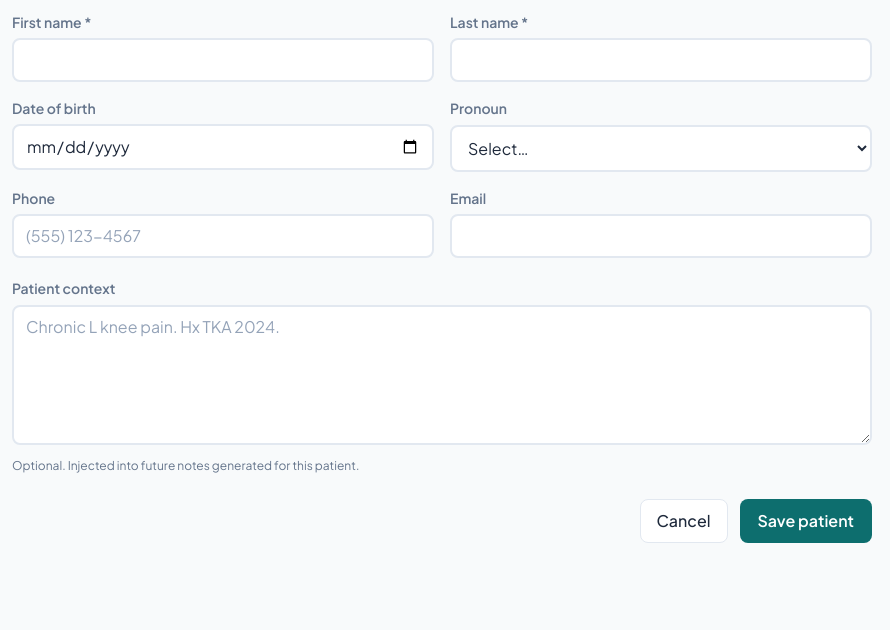
Test: PatientCreateForm › NEVER displays raw err.message (Rule 2): unknown code falls back to generic copy
This screenshot has width=890, height=630.
In the field labelled "First name *": (223, 60) [12, 38, 434, 82], type "Jane"
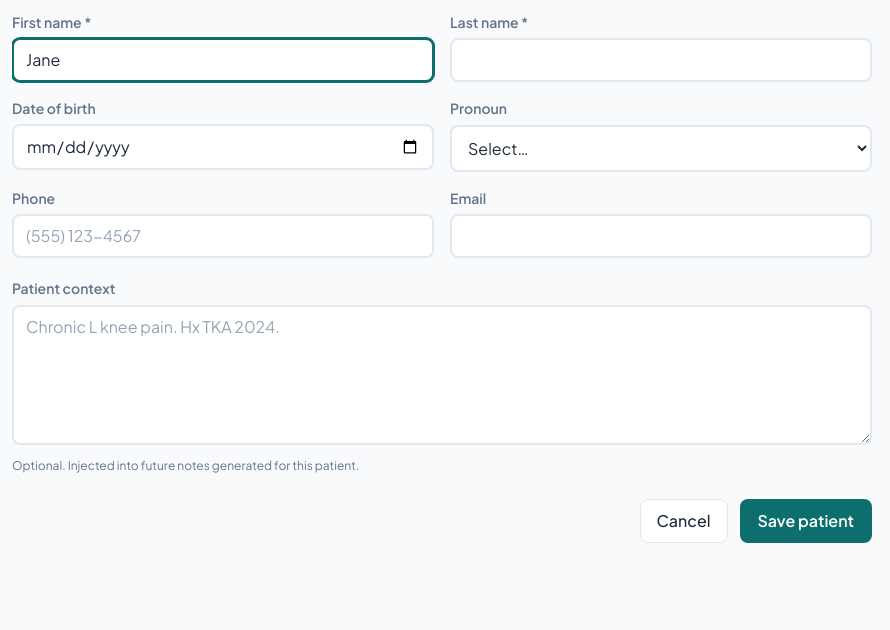
In the field labelled "Last name *": (661, 60) [450, 38, 872, 82], type "Doe"
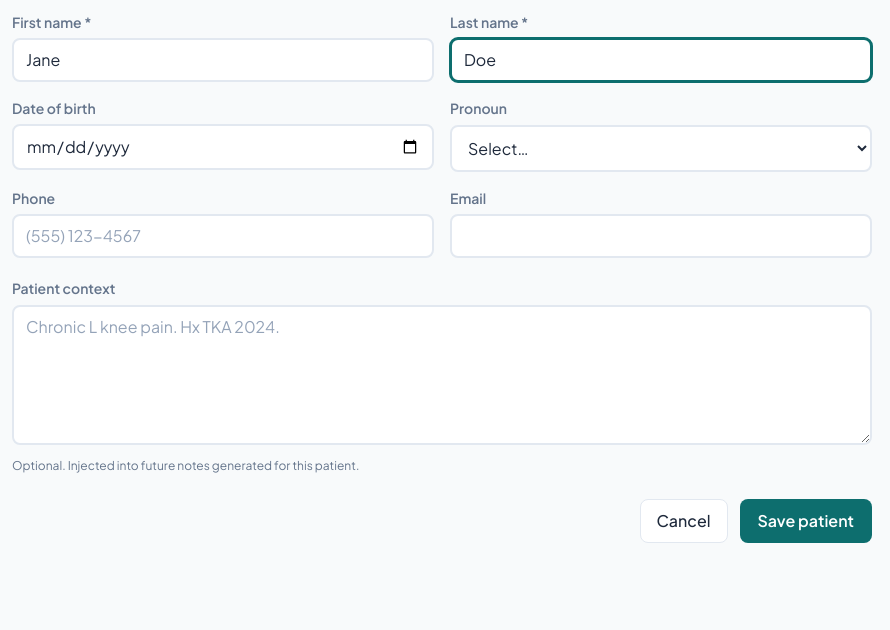
Click the button "Save patient": (806, 521) [740, 499, 872, 543]
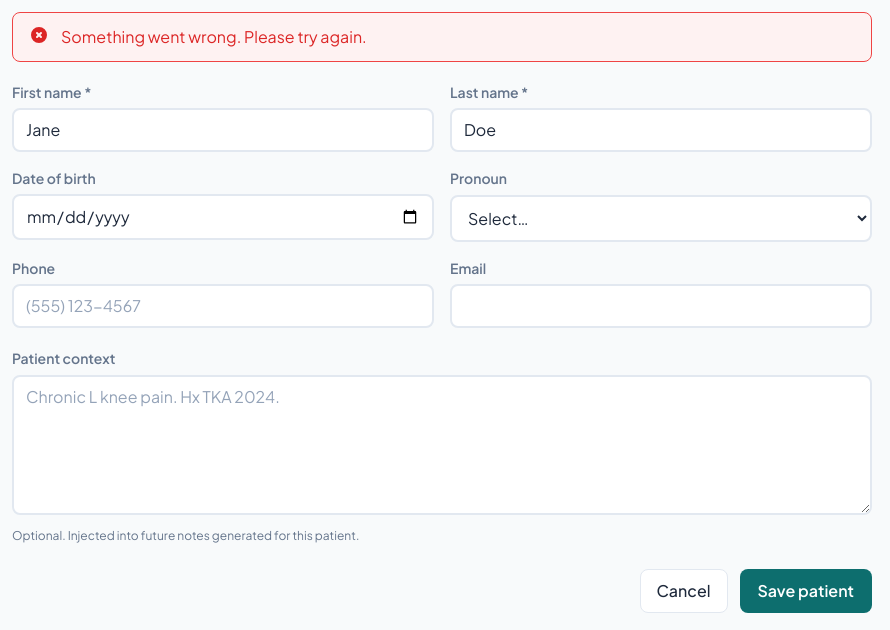
Now the text "Something went wrong. Please try again." is shown, box [61, 26, 367, 47]
